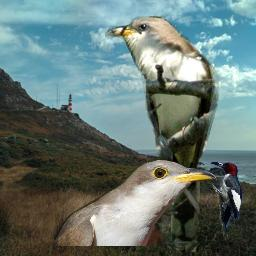Cuckoo: (105, 16, 219, 252), (54, 159, 217, 246)
Woodpecker: (211, 161, 242, 240)
